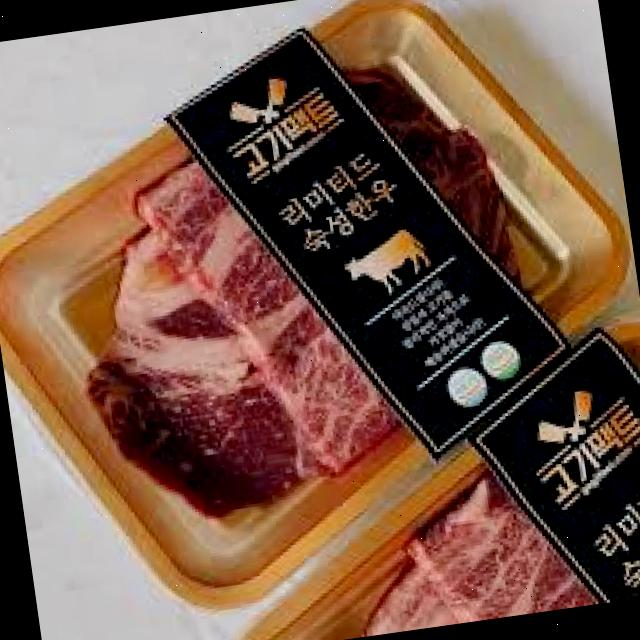meat: (0, 57, 581, 495), (245, 431, 640, 640)
